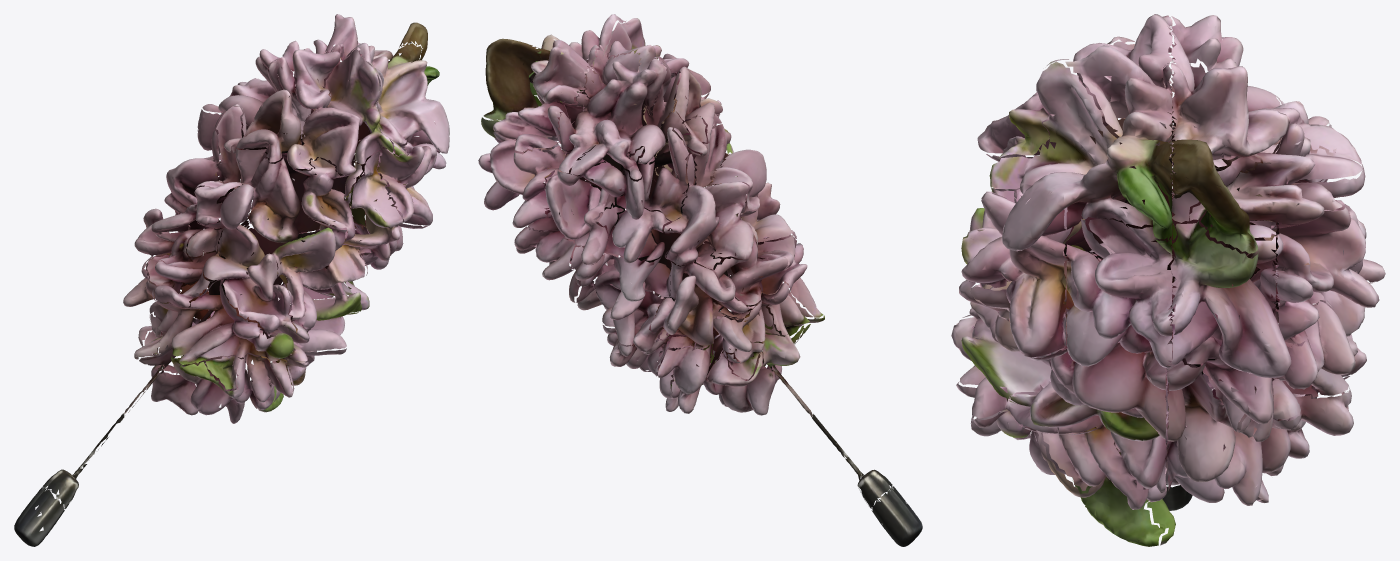
Rendered from brosh.glb.
3 renders of one model, left to right at view 1: azimuth 30°, elevation 25°; view 2: azimuth 150°, elevation 25°; view 3: azimuth 270°, elevation 25°, orthographic. The views are drawn at different scales.
Visible parts, largest first — view 1: brosh; view 2: brosh; view 3: brosh.
Part boxes in pixels (box(x1,y1,x2,y2)): brosh: box(14, 14, 449, 546); brosh: box(478, 14, 922, 546); brosh: box(951, 14, 1385, 546).
Size of the model in its own units: 1.19 by 1.17 by 0.6495.
1 material, 1 textured.
